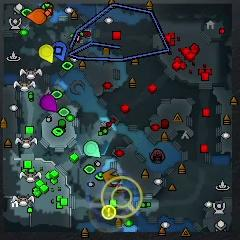Other: (101, 206, 116, 220)
p1: (53, 41, 68, 63)
p2: (85, 140, 102, 158)
p3: (40, 93, 58, 112)
p4: (39, 44, 55, 66)
p5: (26, 7, 48, 25)
x5: (102, 167, 119, 184)
